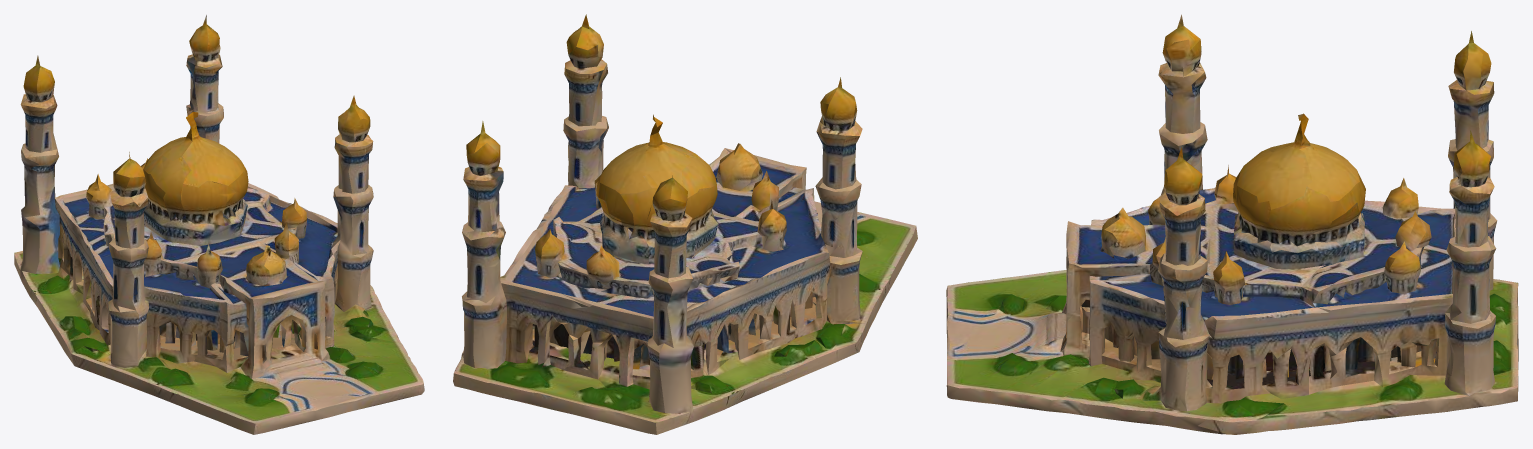
The model's file is jame-asr-hassanil-bolkiah-mosque.glb.
3 views of the same model, side by side, from view 1: azimuth 30°, elevation 25°; view 2: azimuth 150°, elevation 25°; view 3: azimuth 270°, elevation 25° (orthographic). The views are drawn at different scales.
Visible parts, largest first — view 1: logan-textured.obj; view 2: logan-textured.obj; view 3: logan-textured.obj.
Part boxes in pixels (x1,y1,x2,y2): logan-textured.obj: (14,15,424,434); logan-textured.obj: (453,14,917,434); logan-textured.obj: (946,14,1518,434).
Bounding box in the file's own units: 0.7233 × 0.5219 × 1.
1 material, 1 textured.
